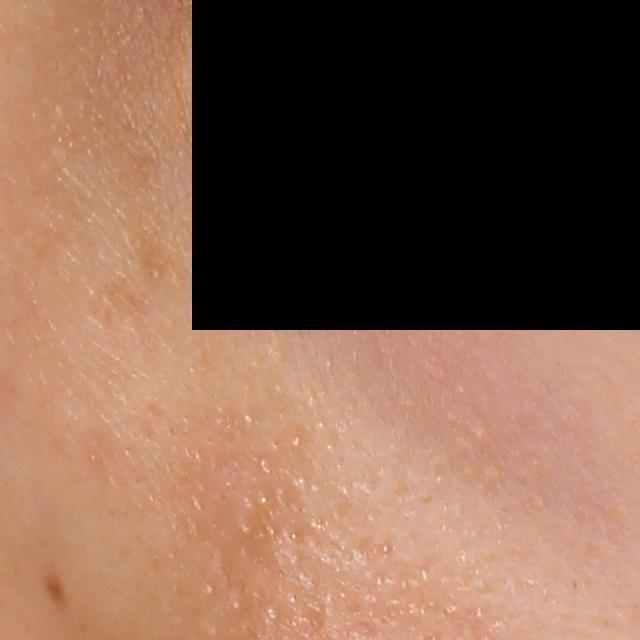melasma: (115, 147, 184, 292), (73, 266, 155, 341)
nevus: (42, 571, 73, 611)
